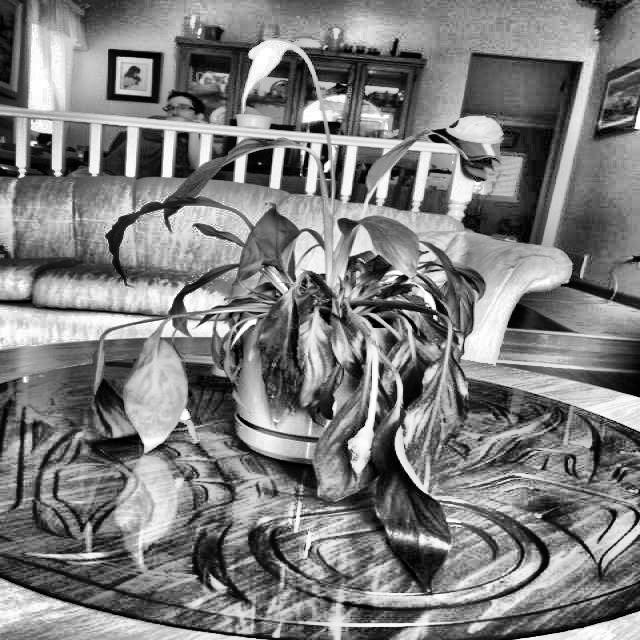plants: (107, 130, 478, 602)
